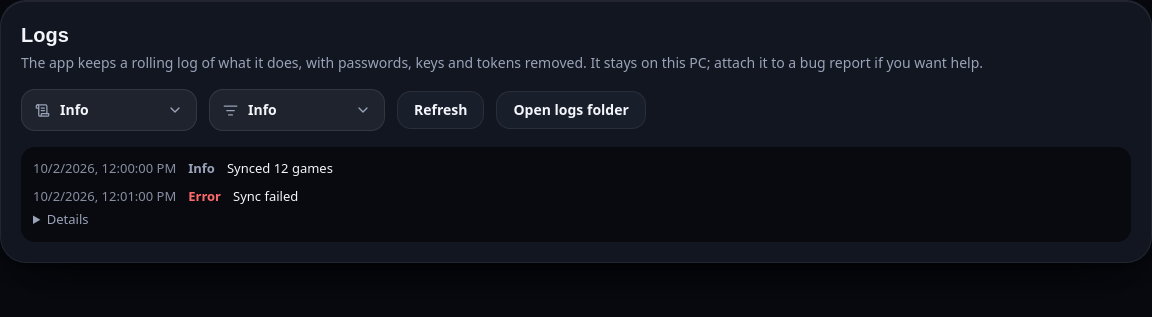
Test: LogsCard › shows an alert and re-reads the level when saving it fails
Expected: the list named "Log entries" is shown, [21,147,1131,242]
Select "Debug" in the dropdown named "Logging level" at x=109, y=110, box [21,89,197,131]
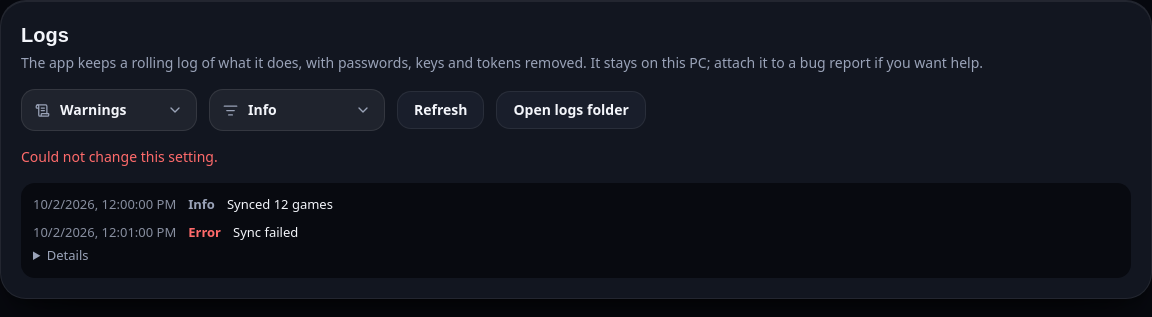
Expected: the message reads "Could not change this setting.", [21,147,218,166]
